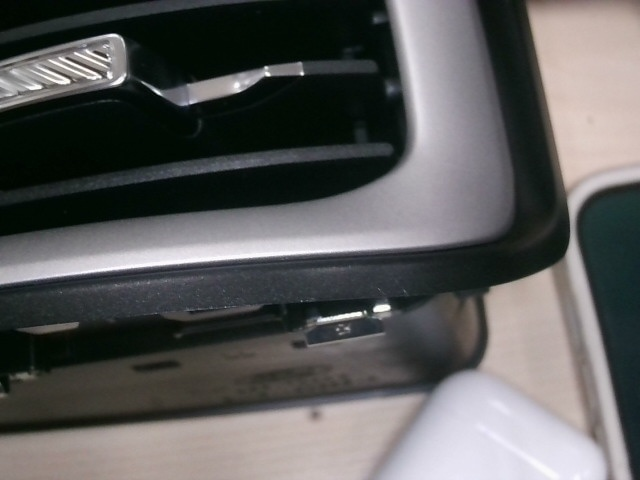NG: (371, 274, 416, 304)
